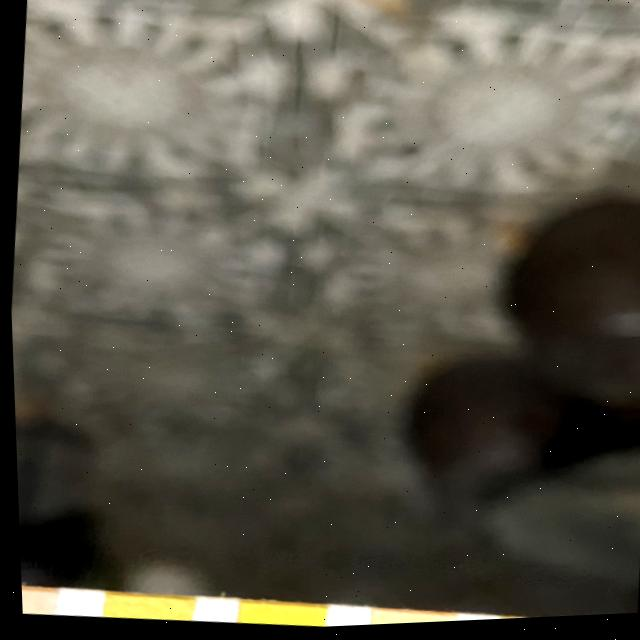Blood: (234, 604, 319, 632)
Ketone: (17, 588, 53, 616)
SpGravity: (98, 595, 186, 625)
pH: (368, 612, 446, 628)
